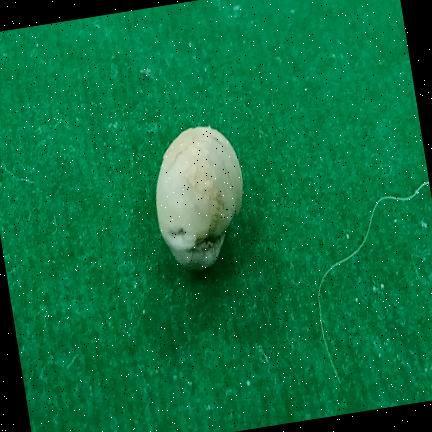good: (156, 126, 243, 270)
